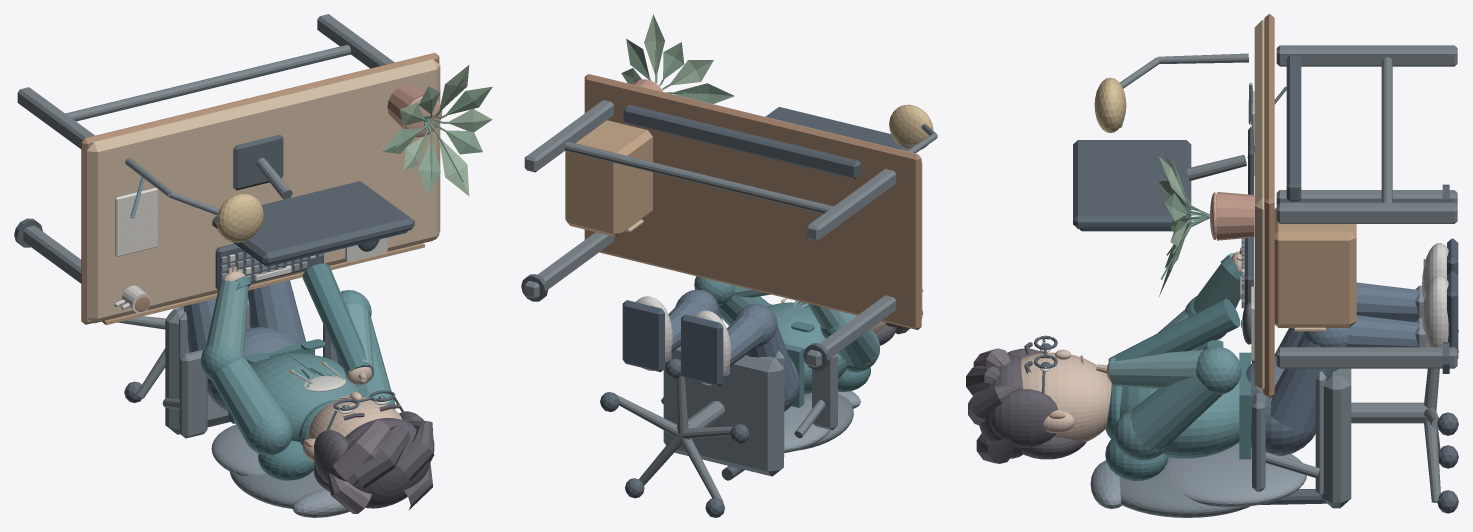
File: 02_workstation_thinking.glb
3 views of the same model, side by side, from view 1: azimuth 30°, elevation 25°; view 2: azimuth 150°, elevation 25°; view 3: azimuth 270°, elevation 25° (orthographic). The views are drawn at different scales.
Parts seen in each view (by area): view 1: 0000__desk_solid_oak_top, 0014__monitor_27_bezel, 0147__hoodie_main_torso, 0001__desk_beveled_oak_rim, 0226__ribbed_cuff, 0009__crossbar, 0214__sleeve_upper, 0089__notebook, 0203__jeans_thigh, 0216__sleeve_forearm, 0144__armrest_cushion, 0169__hair_crown (+33 smaller); view 2: 0001__desk_beveled_oak_rim, 0136__chair_base_seat, 0011__drawer_shell, 0010__cable_management, 0009__crossbar, 0198__rubber_sole, 0208__rubber_sole, 0004__powder_coated_leg, 0006__powder_coated_leg, 0147__hoodie_main_torso, 0003__powder_coated_leg, 0014__monitor_27_bezel (+30 smaller); view 3: 0014__monitor_27_bezel, 0011__drawer_shell, 0139__lumbar_support, 0164__face_head, 0001__desk_beveled_oak_rim, 0000__desk_solid_oak_top, 0006__powder_coated_leg, 0136__chair_base_seat, 0005__powder_coated_leg, 0223__sleeve_upper, 0004__powder_coated_leg, 0147__hoodie_main_torso (+38 smaller).
Part boxes in pixels (bbox=[...]): 0000__desk_solid_oak_top: bbox=[86, 59, 440, 323]; 0014__monitor_27_bezel: bbox=[212, 181, 414, 265]; 0147__hoodie_main_torso: bbox=[252, 353, 359, 441]; 0001__desk_beveled_oak_rim: bbox=[81, 53, 439, 324]; 0226__ribbed_cuff: bbox=[302, 263, 369, 378]; 0009__crossbar: bbox=[65, 44, 351, 121]; 0214__sleeve_upper: bbox=[211, 357, 283, 440]; 0089__notebook: bbox=[115, 187, 158, 256]; 0203__jeans_thigh: bbox=[247, 280, 305, 342]; 0216__sleeve_forearm: bbox=[206, 280, 248, 351]; 0144__armrest_cushion: bbox=[180, 350, 207, 438]; 0169__hair_crown: bbox=[345, 418, 429, 508]; 0001__desk_beveled_oak_rim: bbox=[584, 74, 921, 329]; 0136__chair_base_seat: bbox=[663, 346, 783, 476]; 0011__drawer_shell: bbox=[565, 120, 652, 237]; 0010__cable_management: bbox=[623, 105, 860, 178]; 0009__crossbar: bbox=[564, 141, 833, 213]; 0198__rubber_sole: bbox=[681, 314, 723, 386]; 0208__rubber_sole: bbox=[622, 300, 664, 372]; 0004__powder_coated_leg: bbox=[806, 169, 895, 241]; 0006__powder_coated_leg: bbox=[524, 100, 613, 172]; 0147__hoodie_main_torso: bbox=[766, 302, 847, 394]; 0003__powder_coated_leg: bbox=[806, 295, 895, 367]; 0014__monitor_27_bezel: bbox=[765, 107, 907, 150]; 0014__monitor_27_bezel: bbox=[1073, 140, 1191, 228]; 0011__drawer_shell: bbox=[1274, 207, 1356, 327]; 0139__lumbar_support: bbox=[1168, 442, 1306, 507]; 0164__face_head: bbox=[1021, 352, 1111, 442]; 0001__desk_beveled_oak_rim: bbox=[1264, 14, 1274, 398]; 0000__desk_solid_oak_top: bbox=[1254, 19, 1264, 393]; 0006__powder_coated_leg: bbox=[1276, 202, 1457, 223]; 0136__chair_base_seat: bbox=[1322, 368, 1351, 508]; 0005__powder_coated_leg: bbox=[1276, 347, 1457, 368]; 0223__sleeve_upper: bbox=[1130, 375, 1222, 452]; 0004__powder_coated_leg: bbox=[1276, 45, 1457, 66]; 0147__hoodie_main_torso: bbox=[1120, 381, 1239, 458].
Size of the model in its own units: 1.7 by 1.79 by 1.85.
